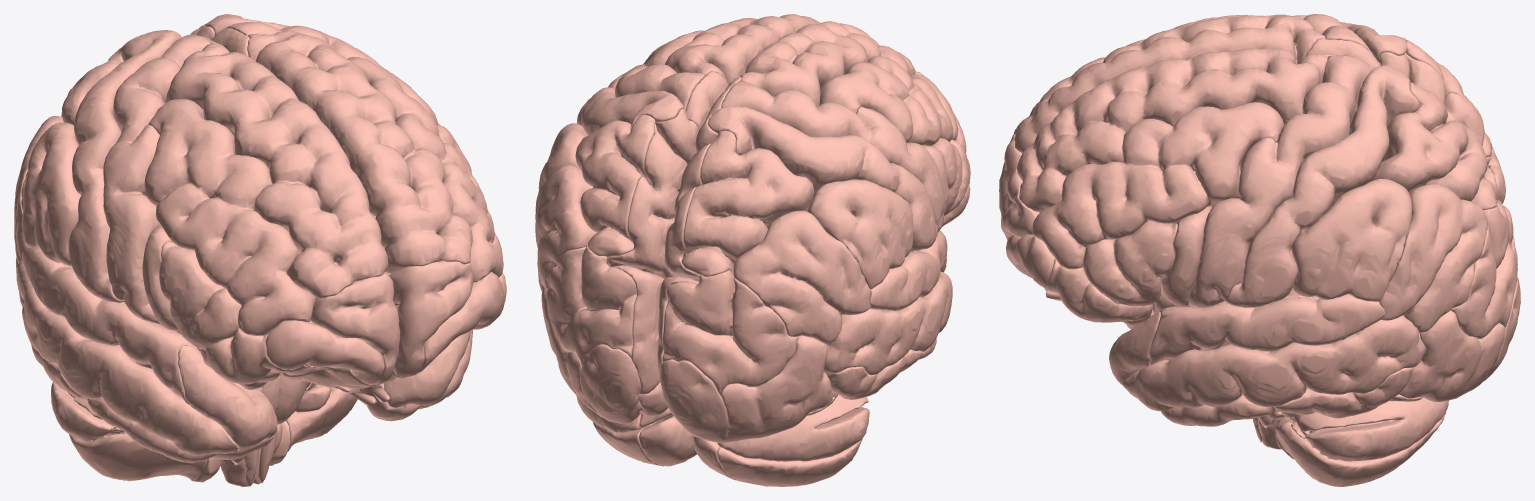
The model's file is brain.glb.
3 views of the same model, side by side, from view 1: azimuth 30°, elevation 25°; view 2: azimuth 150°, elevation 25°; view 3: azimuth 270°, elevation 25° (orthographic). The views are drawn at different scales.
Visible parts, largest first — view 1: Allen_olfactory_bulb_L; view 2: Allen_olfactory_bulb_L; view 3: Allen_olfactory_bulb_L.
Boxes of the visible parts, x1,y1,x2,y2 form: Allen_olfactory_bulb_L: (14,14,506,486); Allen_olfactory_bulb_L: (535,14,970,486); Allen_olfactory_bulb_L: (999,14,1520,486).
Bounding box in the file's own units: 0.1364 × 0.1461 × 0.167.
